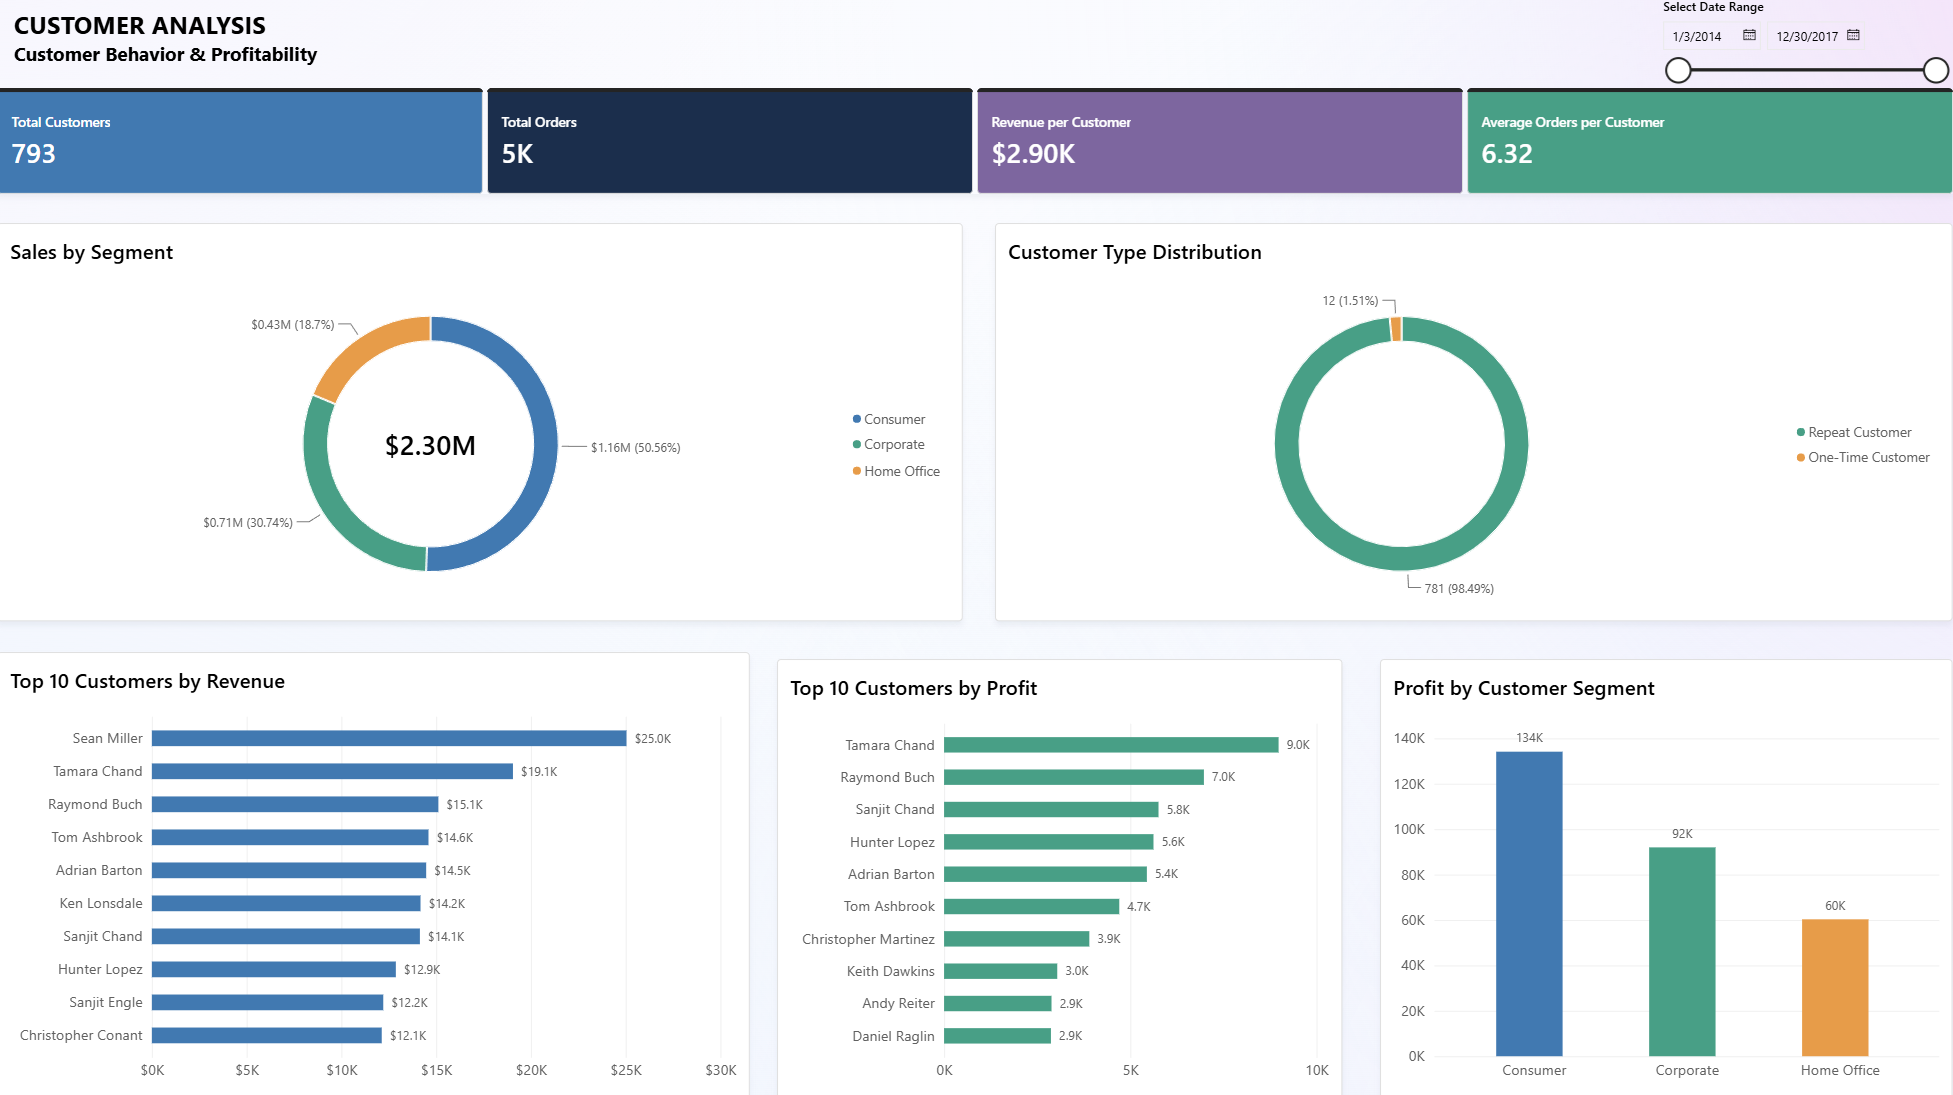

This screenshot's page, from the dashboard's own definition file:
{"tool":"powerbi","page":{"name":"Page 3","canvas":[1920,1080],"ordinal":2},"visuals":[{"type":"cardVisual","fields":{"Data":["stg_superstore.Total Customers","stg_superstore.Total Orders","stg_superstore.Revenue per Customer","stg_superstore.Average Orders per Customer"]},"box":[0,88.3,1920,104],"z":0},{"type":"donutChart","title":"Sales by Segment","fields":{"Category":["stg_superstore.segment"],"Y":["stg_superstore.Total Sales"]},"box":[0,220.9,948.2,390.7],"z":1000},{"type":"clusteredColumnChart","title":"Profit by Customer Segment","fields":{"Category":["stg_superstore.segment"],"Y":["stg_superstore.Total Profit"]},"box":[1357.5,648.8,562.5,430.9],"z":2000},{"type":"donutChart","title":"\tCustomer Type Distribution","fields":{"Category":["Customer Type.Customer Type"],"Y":["Customer Type.Customer Count by Type"]},"box":[979.6,220.9,940.4,390.7],"z":3000},{"type":"clusteredBarChart","title":"Top 10 Customers by Revenue","fields":{"Category":["stg_superstore.customer_name"],"Y":["stg_superstore.Total Sales"]},"box":[0,642,739.1,437.8],"z":4000},{"type":"clusteredBarChart","title":"Top 10 Customers by Profit","fields":{"Category":["stg_superstore.customer_name"],"Y":["stg_superstore.Total Profit"]},"box":[765.6,648.8,554.6,430.9],"z":5000},{"type":"slicer","fields":{"Values":["stg_superstore.order_date"]},"box":[1627.5,0,292.5,88.3],"z":6000},{"type":"textbox","box":[16.7,9.8,678.3,70.7],"z":7000}]}

Visuals, with their boxes in screenshot pixels (x1, y1, x2, y2), scaled from the page's 1920x1080 canvas onto the 1953x1095 screenshot:
cardVisual - stg_superstore.Total Customers x stg_superstore.Total Orders: crop(0, 90, 1952, 195)
"Sales by Segment" donutChart: crop(0, 224, 964, 620)
"Profit by Customer Segment" clusteredColumnChart: crop(1381, 658, 1952, 1094)
"	Customer Type Distribution" donutChart: crop(996, 224, 1952, 620)
"Top 10 Customers by Revenue" clusteredBarChart: crop(0, 651, 752, 1094)
"Top 10 Customers by Profit" clusteredBarChart: crop(779, 658, 1343, 1094)
slicer - stg_superstore.order_date: crop(1655, 0, 1952, 90)
textbox: crop(17, 10, 707, 82)
